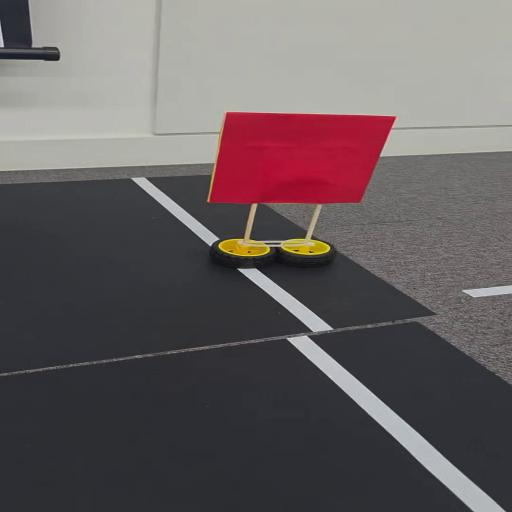Sign_A: (193, 111, 391, 278)
